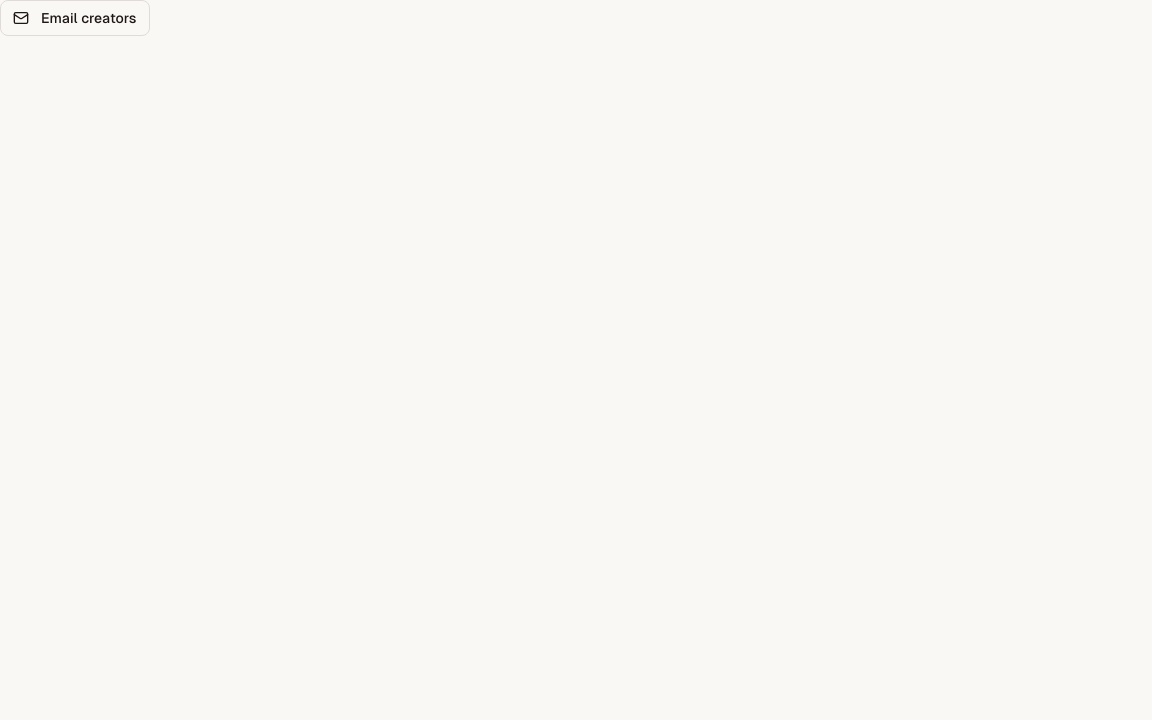
Test case: the brief email for a campaign › says there is one when the campaign has a contract
Later steps or results of the test are not shown.
Click the button "Email creators".
click(75, 18)  # box [0, 0, 150, 36]
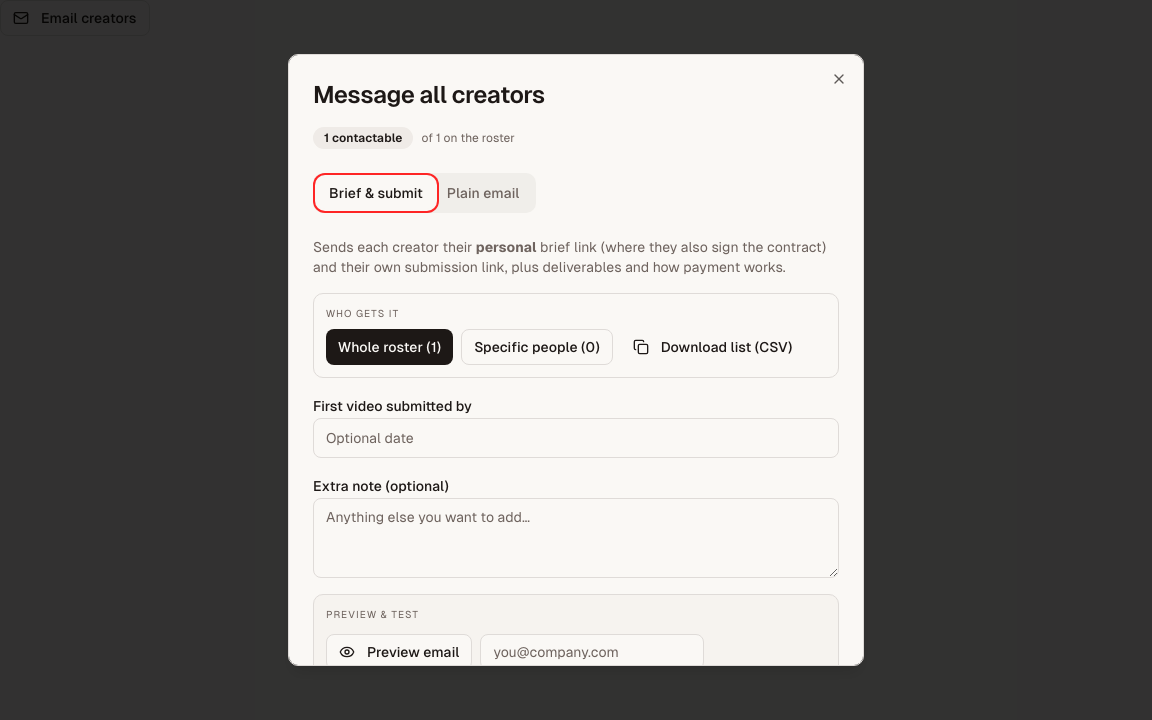
Now the button "Preview email" is shown, box [326, 634, 472, 666]
Now the text "where they also sign the contract" is shown, box [597, 239, 826, 255]
